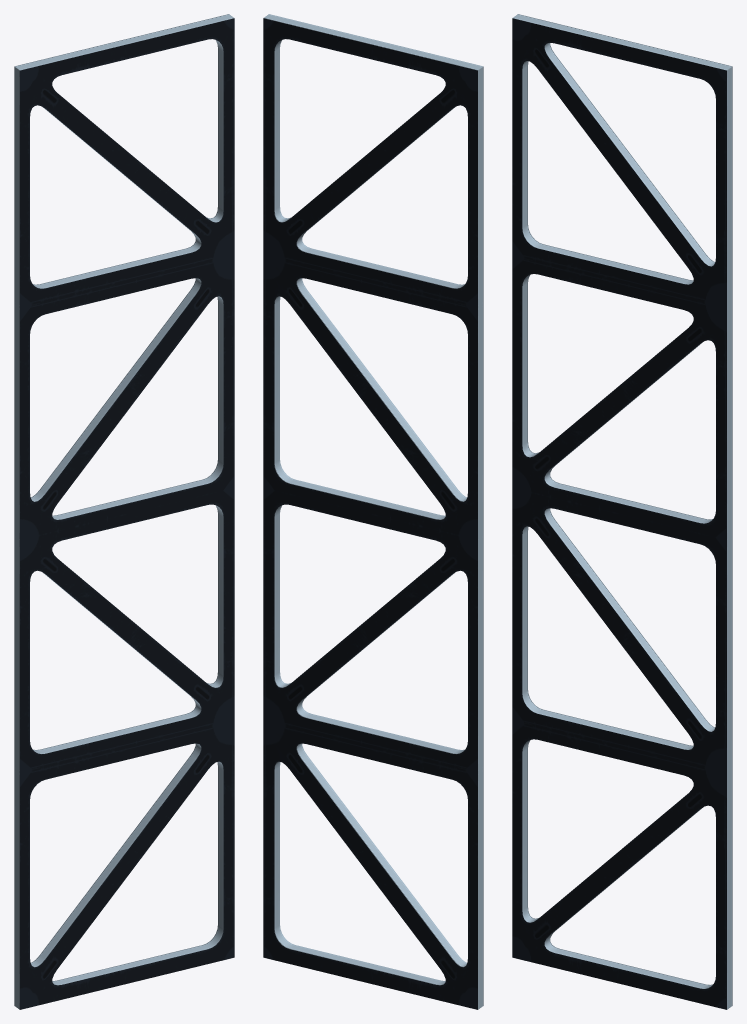
The model's file is FoundryColumn.glb.
The picture shows the model from 3 angles, left to right: view 1: azimuth 30°, elevation 25°; view 2: azimuth 150°, elevation 25°; view 3: azimuth 330°, elevation 25°; orthographic projection.
Visible parts, largest first — view 1: RF_FoundryColumn_01_PanelPlastic, RF_FoundryColumn_00_SecondaryMetal; view 2: RF_FoundryColumn_01_PanelPlastic, RF_FoundryColumn_00_SecondaryMetal; view 3: RF_FoundryColumn_01_PanelPlastic, RF_FoundryColumn_00_SecondaryMetal.
Part boxes in pixels (x1,y1,x2,y2): RF_FoundryColumn_01_PanelPlastic: (20,18,234,1009); RF_FoundryColumn_00_SecondaryMetal: (14,14,234,1009); RF_FoundryColumn_01_PanelPlastic: (263,18,477,1009); RF_FoundryColumn_00_SecondaryMetal: (263,14,483,1009); RF_FoundryColumn_01_PanelPlastic: (512,18,726,1009); RF_FoundryColumn_00_SecondaryMetal: (512,14,732,1009).
Size of the model in its own units: 4.11 by 17.2 by 0.1892.
2 materials, 2 textured.
